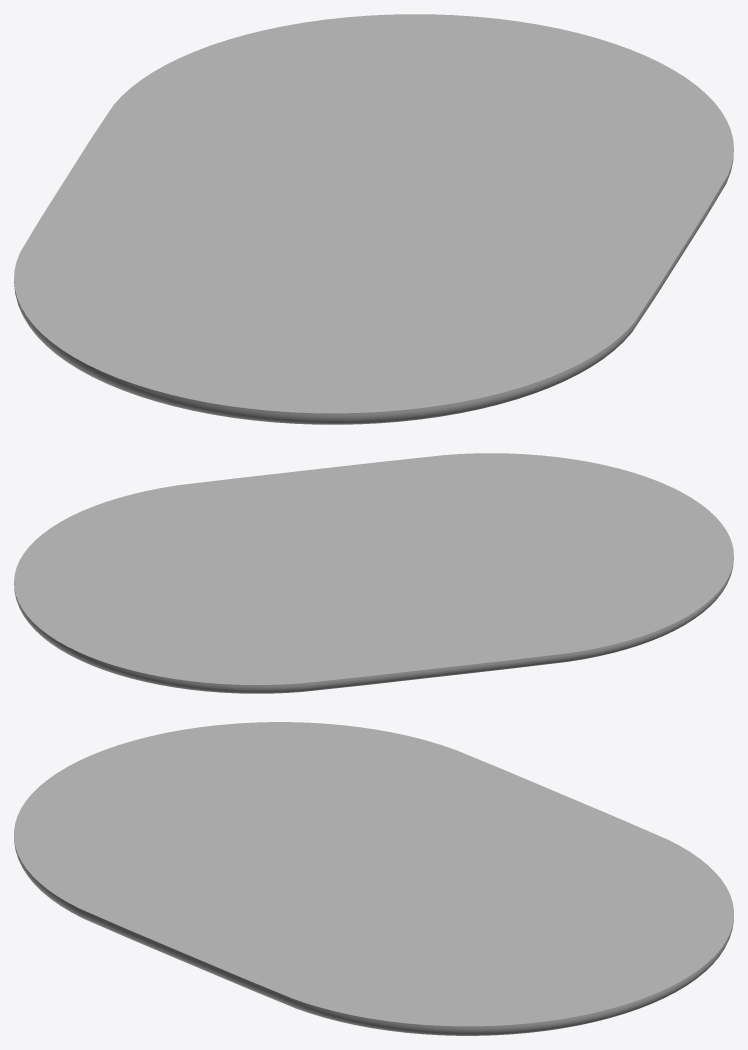
The model's file is diningtable_0209_top.glb.
3 views of the same model, one above another, from view 1: azimuth 30°, elevation 25°; view 2: azimuth 150°, elevation 25°; view 3: azimuth 270°, elevation 25° (orthographic). The views are drawn at different scales.
Visible parts, largest first — view 1: diningtable_0209_top; view 2: diningtable_0209_top; view 3: diningtable_0209_top.
Part boxes in pixels (box(x1,y1,x2,y2)): diningtable_0209_top: box(14, 14, 733, 424); diningtable_0209_top: box(14, 453, 733, 693); diningtable_0209_top: box(14, 722, 733, 1035).
Bounding box in the file's own units: 1.08 × 0.0215 × 1.08.
Materials: 1 (1 with a texture image).
